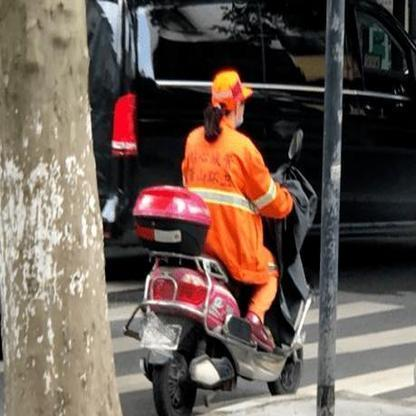target: (122, 65, 319, 407)
